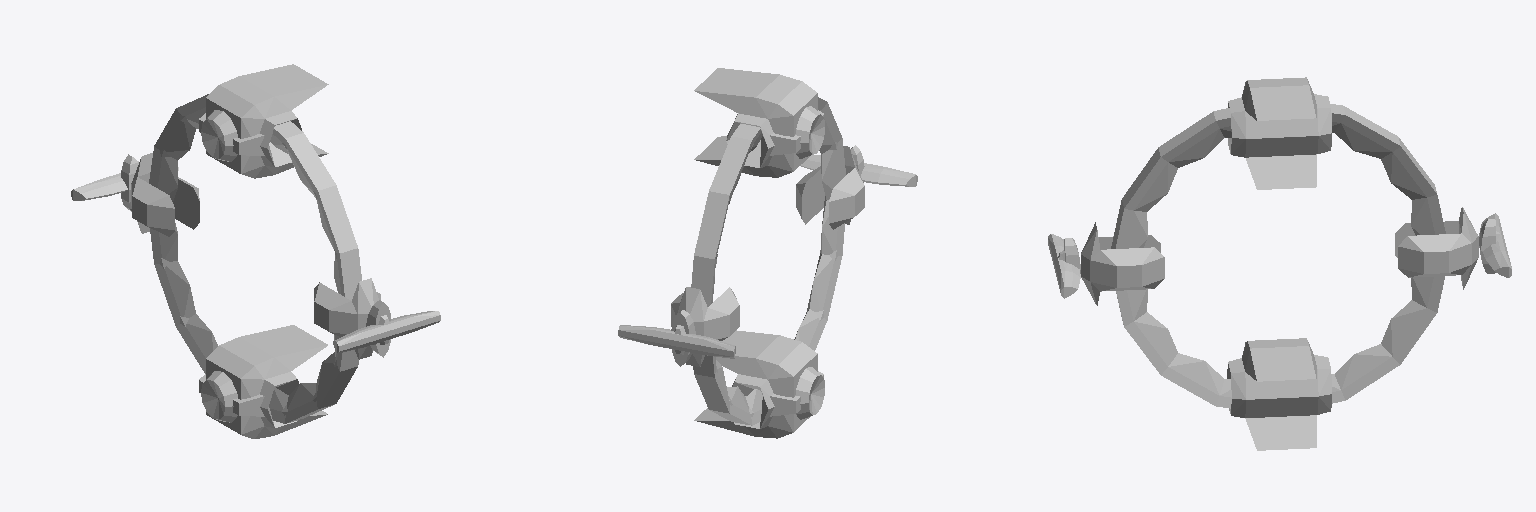
File: stg300_MotGate_j4_10.obj
3 renders of one model, left to right at view 1: azimuth 30°, elevation 25°; view 2: azimuth 150°, elevation 25°; view 3: azimuth 270°, elevation 25°, orthographic.
Parts seen in each view (by area): view 1: polygon0, polygon6, polygon7, polygon1, polygon4, polygon3, polygon5; view 2: polygon0, polygon6, polygon7, polygon2, polygon1, polygon5, polygon3; view 3: polygon0, polygon7, polygon6, polygon1, polygon3, polygon5, polygon4, polygon2.
Boxes of the visible parts, x1,y1,x2,y2 form: polygon0: [131, 64, 380, 438]; polygon6: [149, 94, 361, 423]; polygon7: [158, 107, 340, 411]; polygon1: [132, 119, 328, 419]; polygon4: [333, 300, 440, 357]; polygon3: [74, 167, 178, 202]; polygon5: [335, 311, 434, 345]; polygon0: [671, 68, 864, 438]; polygon6: [691, 97, 845, 425]; polygon7: [712, 110, 838, 413]; polygon2: [618, 310, 735, 366]; polygon1: [730, 114, 864, 414]; polygon5: [800, 155, 915, 186]; polygon3: [620, 322, 734, 354]; polygon0: [1081, 77, 1478, 450]; polygon7: [1126, 122, 1434, 397]; polygon6: [1111, 104, 1445, 408]; polygon1: [1117, 251, 1448, 287]; polygon3: [1479, 213, 1508, 270]; polygon5: [1051, 234, 1080, 288]; polygon4: [1048, 234, 1078, 298]; polygon2: [1481, 214, 1511, 277].
Size of the model in its own units: 92.41 by 199 by 247.